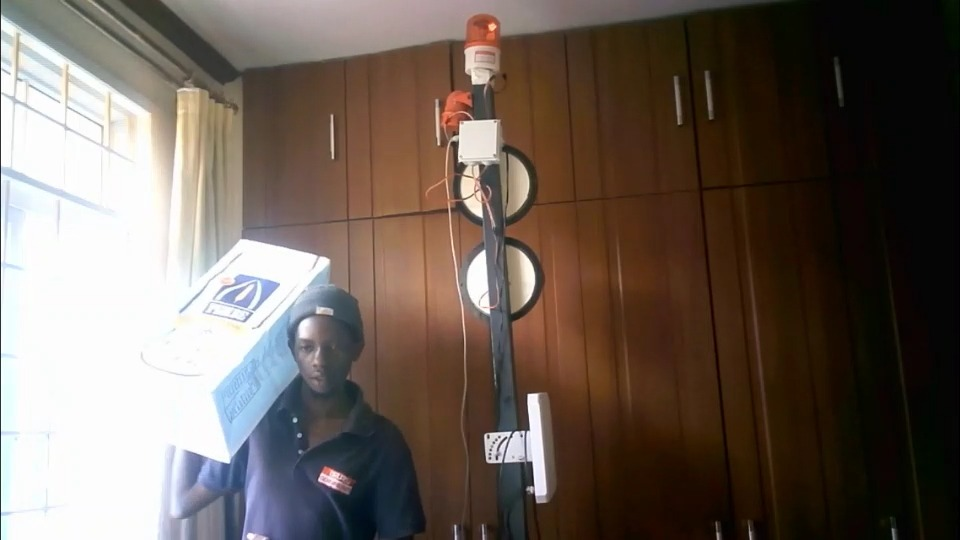wheat_flour_blue_label: (135, 239, 330, 455)
